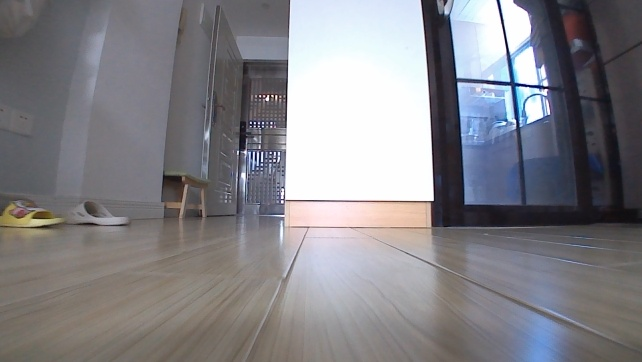door_anno: (195, 0, 246, 218), (235, 60, 288, 217)
slipper: (0, 196, 63, 230), (59, 199, 131, 228)
